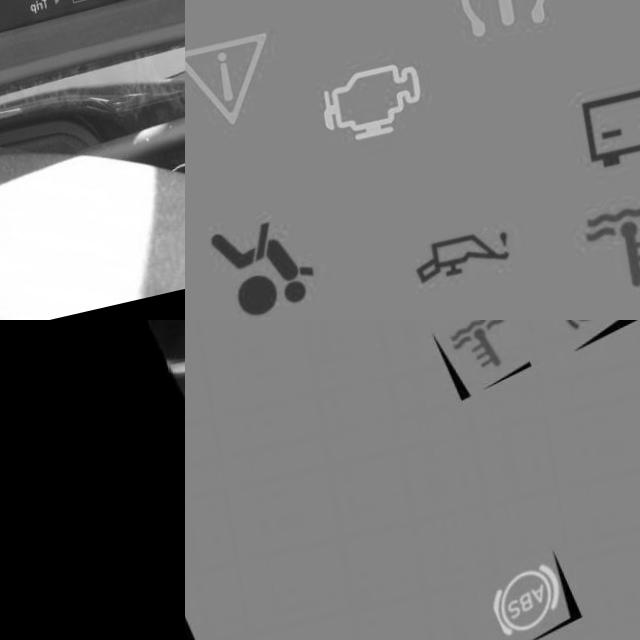High Engine Coolant Temperature: (547, 201, 640, 320)
